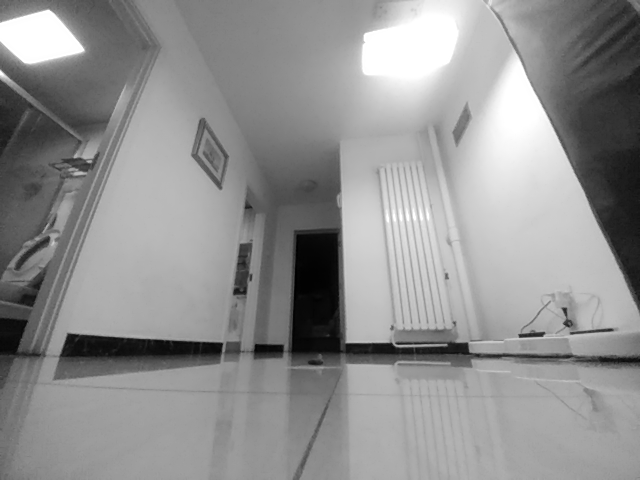pet feces: (308, 353, 324, 367)
